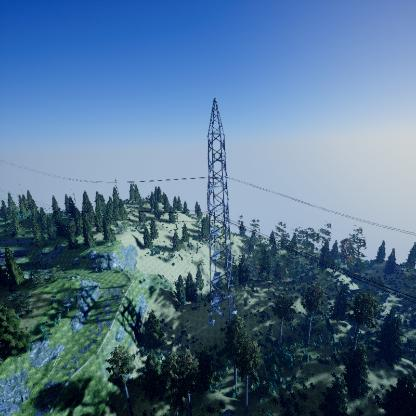tower: (203, 93, 235, 328)
